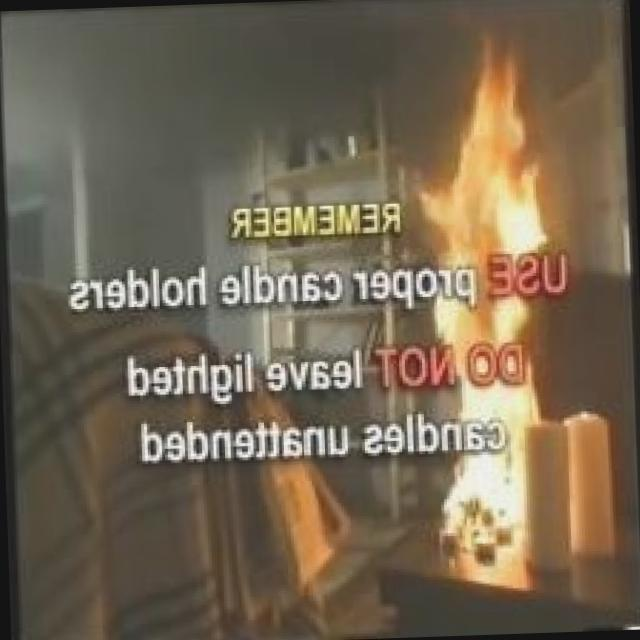fire: (415, 36, 572, 535)
